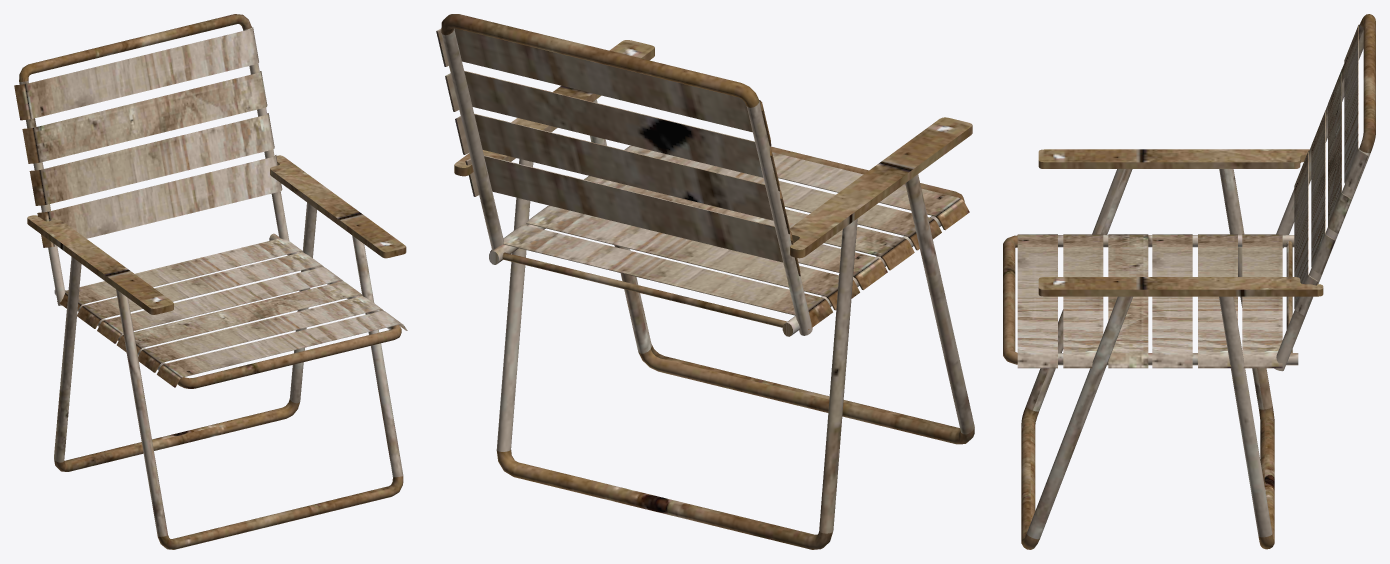
File: Wooden_chair.fbx
3 views of the same model, side by side, from view 1: azimuth 30°, elevation 25°; view 2: azimuth 150°, elevation 25°; view 3: azimuth 270°, elevation 25° (orthographic). The views are drawn at different scales.
Parts seen in each view (by area): view 1: chair01:chair01_0; view 2: chair01:chair01_0; view 3: chair01:chair01_0.
Part boxes in pixels (bbox=[...]): chair01:chair01_0: bbox=[14, 14, 407, 549]; chair01:chair01_0: bbox=[436, 14, 974, 549]; chair01:chair01_0: bbox=[1003, 14, 1375, 549].
Size of the model in its own units: 8.91 by 12.39 by 10.01.
1 material, 1 textured.
